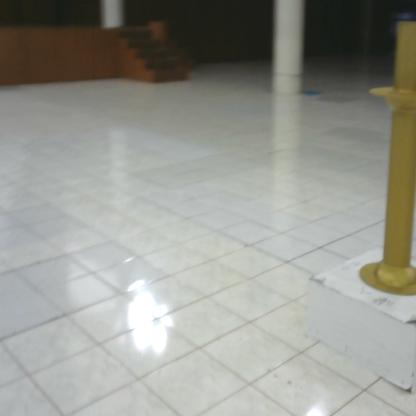pole: (355, 1, 416, 309)
